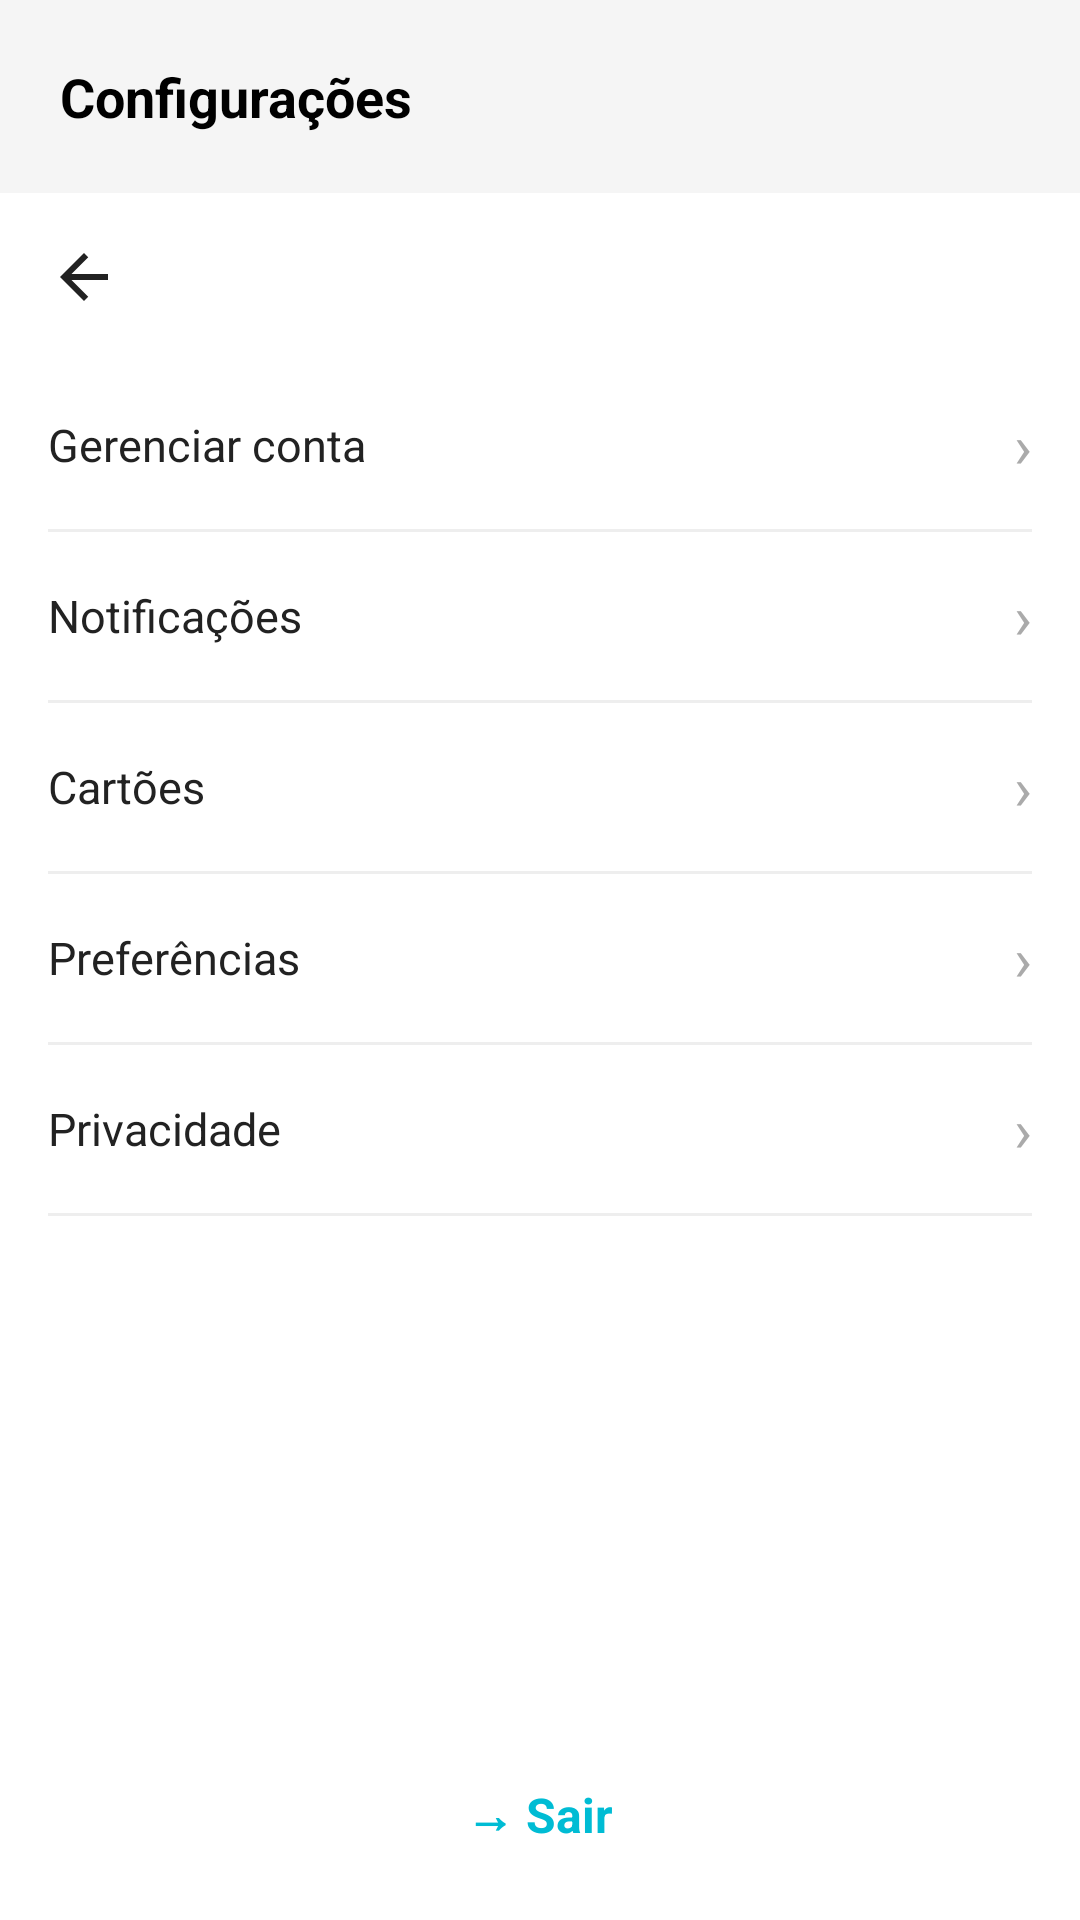

Icon bounding boxes for this 1080px x 1920px phone screenshot, format (x1, y1, x2, y2):
Voltar: (60, 253, 108, 301)
